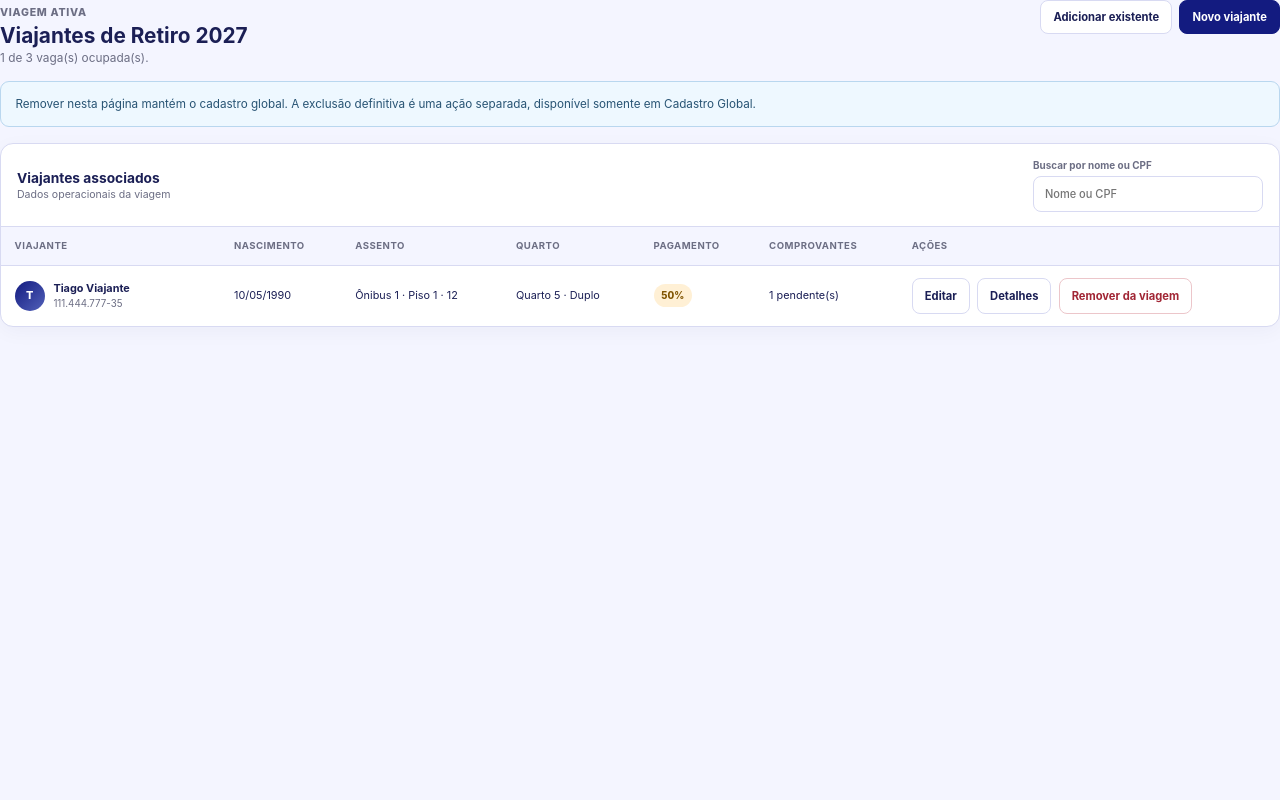
Test: TripTravelersPage › adiciona administrador existente à viagem sem trocar seu perfil
The image size is (1280, 800).
Click the button "Adicionar existente": [1106, 17] box x1=1040 y1=0 x2=1172 y2=34
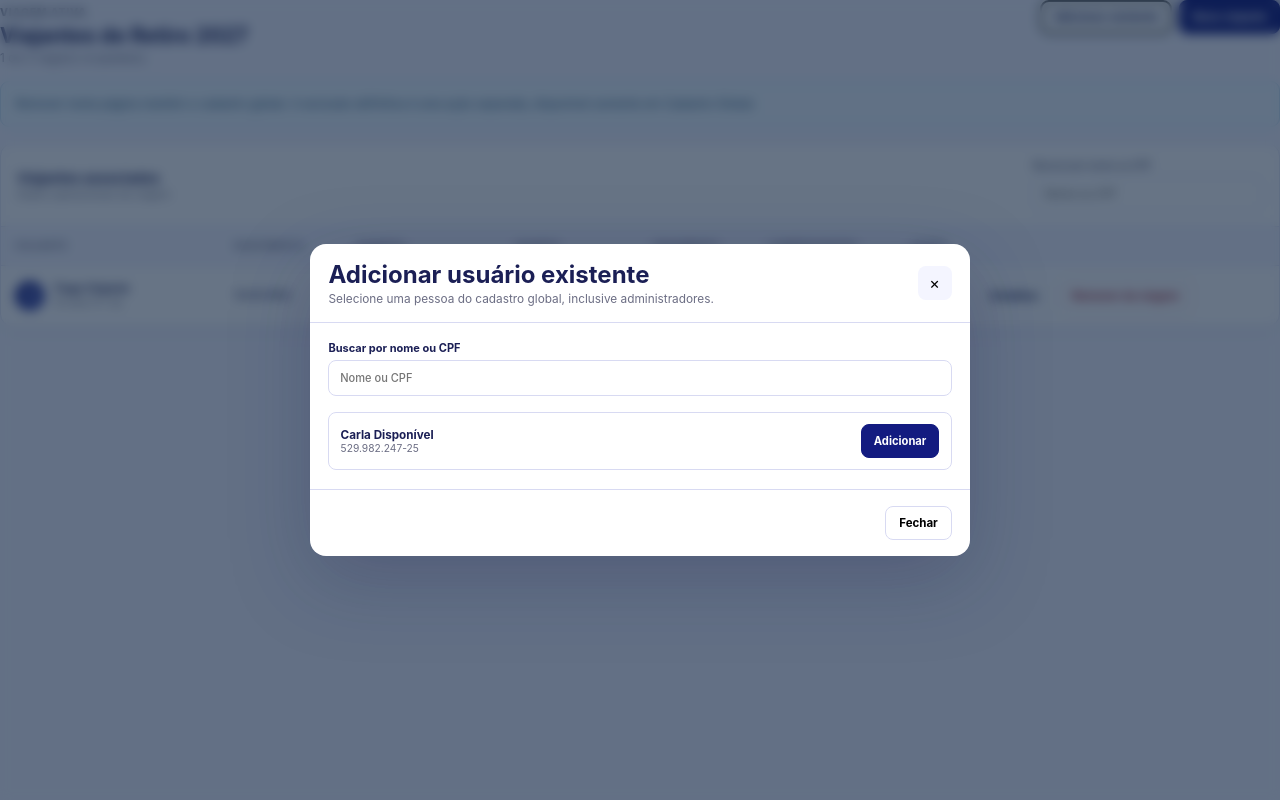
Click the button with aria-label "Adicionar Carla Disponível": [900, 441] box x1=861 y1=424 x2=940 y2=458
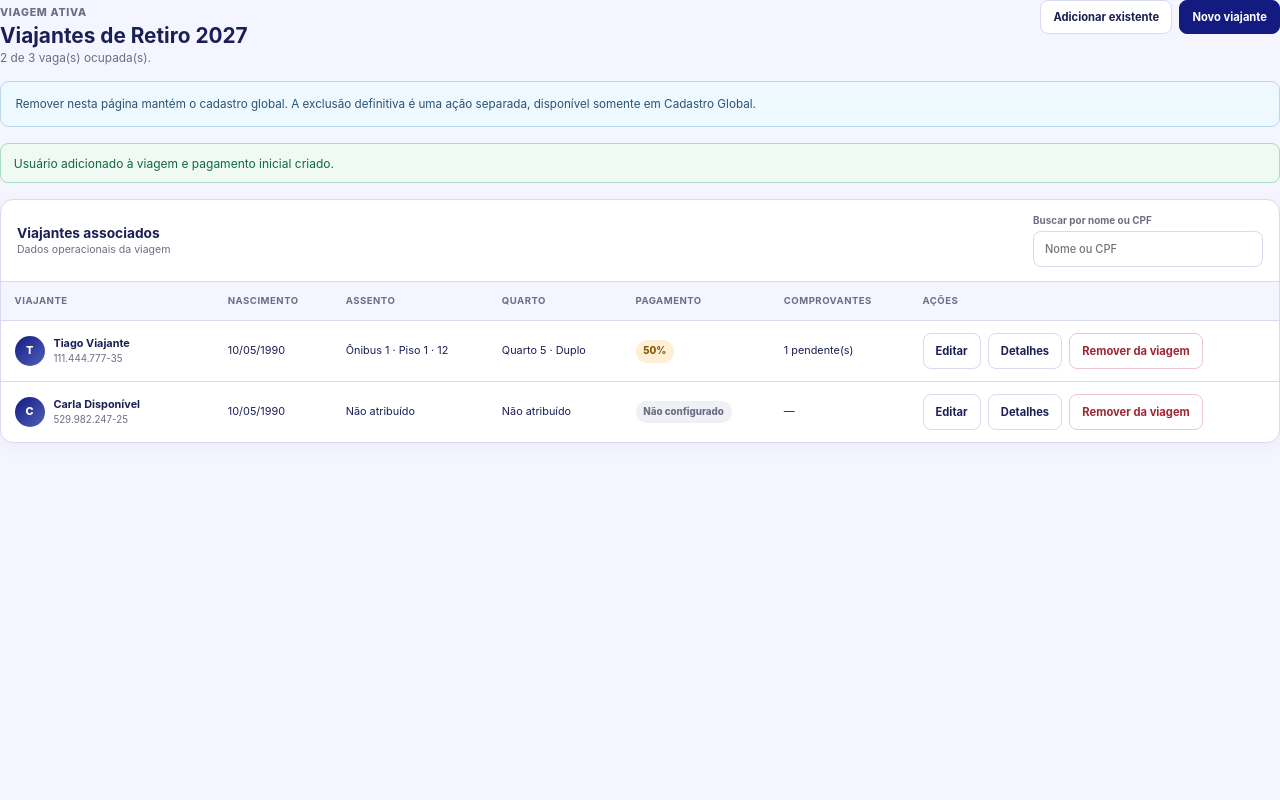
Expected: the text "Carla Disponível" is shown, x1=53 y1=397 x2=140 y2=413
Expected: the text "Usuário adicionado à viagem e pagamento inicial criado." is shown, x1=0 y1=143 x2=1279 y2=183
